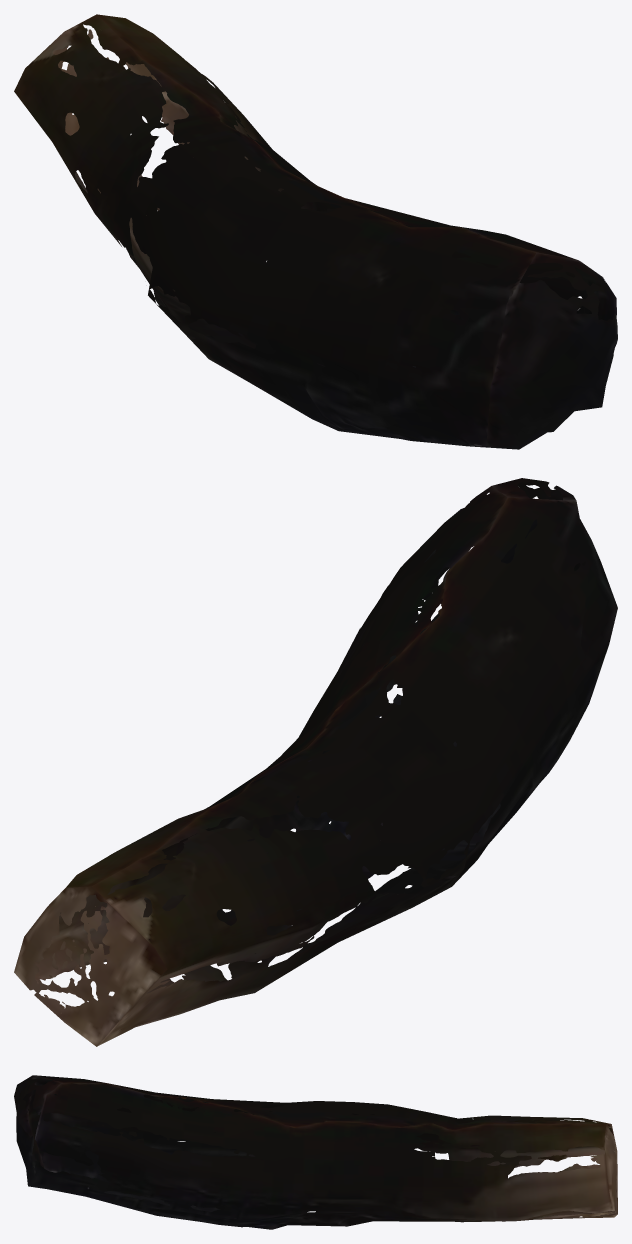
The picture shows the model from 3 angles, top to bottom: view 1: azimuth 30°, elevation 25°; view 2: azimuth 150°, elevation 25°; view 3: azimuth 270°, elevation 25°; orthographic projection. The views are drawn at different scales.
Visible parts, largest first — view 1: SM_Campfire_01_Log_A_LOD0; view 2: SM_Campfire_01_Log_A_LOD0; view 3: SM_Campfire_01_Log_A_LOD0.
Part boxes in pixels (bbox=[...]): SM_Campfire_01_Log_A_LOD0: bbox=[14, 14, 617, 449]; SM_Campfire_01_Log_A_LOD0: bbox=[14, 478, 617, 1046]; SM_Campfire_01_Log_A_LOD0: bbox=[14, 1075, 617, 1229].
Size of the model in its own units: 0.1969 by 0.2055 by 0.7104.
